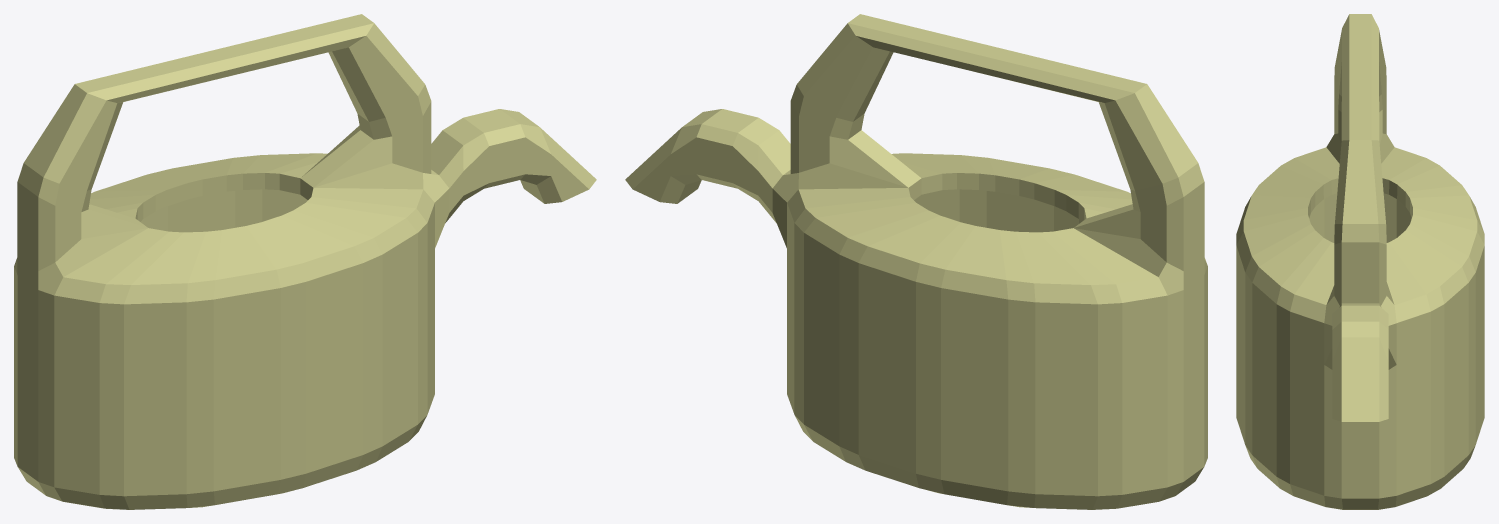
The model's file is pitcher.fbx.
3 views of the same model, side by side, from view 1: azimuth 30°, elevation 25°; view 2: azimuth 150°, elevation 25°; view 3: azimuth 270°, elevation 25° (orthographic). The views are drawn at different scales.
Visible parts, largest first — view 1: Cylinder; view 2: Cylinder; view 3: Cylinder.
Boxes of the visible parts, left/top/right/bottom form: Cylinder: left=14, top=14, right=596, bottom=509; Cylinder: left=625, top=14, right=1207, bottom=509; Cylinder: left=1236, top=14, right=1484, bottom=509.
Size of the model in its own units: 461 by 313 by 197.
